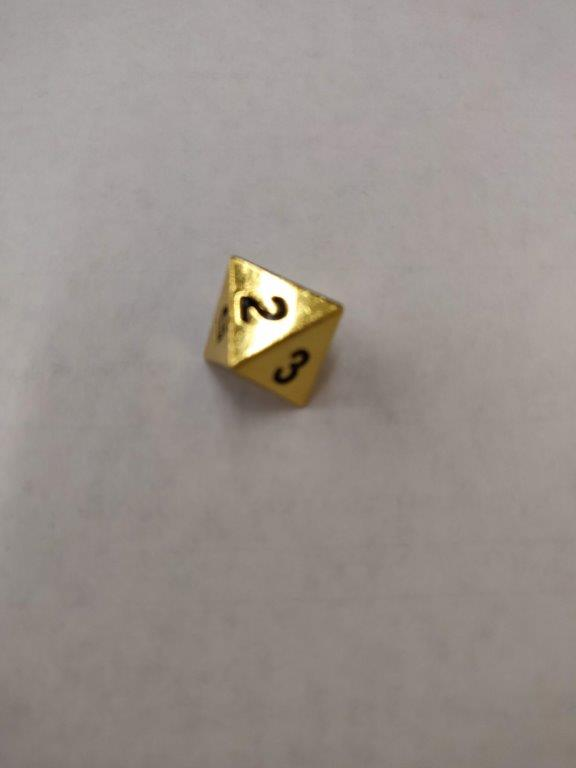d8-2: (198, 254, 344, 409)
